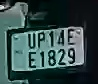1: (47, 31, 56, 50), (38, 50, 47, 69)
2: (58, 49, 68, 66)
4: (57, 30, 65, 47)
8: (45, 48, 58, 67)
9: (67, 47, 76, 66)
E: (26, 50, 38, 71), (66, 28, 77, 46)
P: (36, 32, 46, 49)
U: (26, 33, 38, 50)
